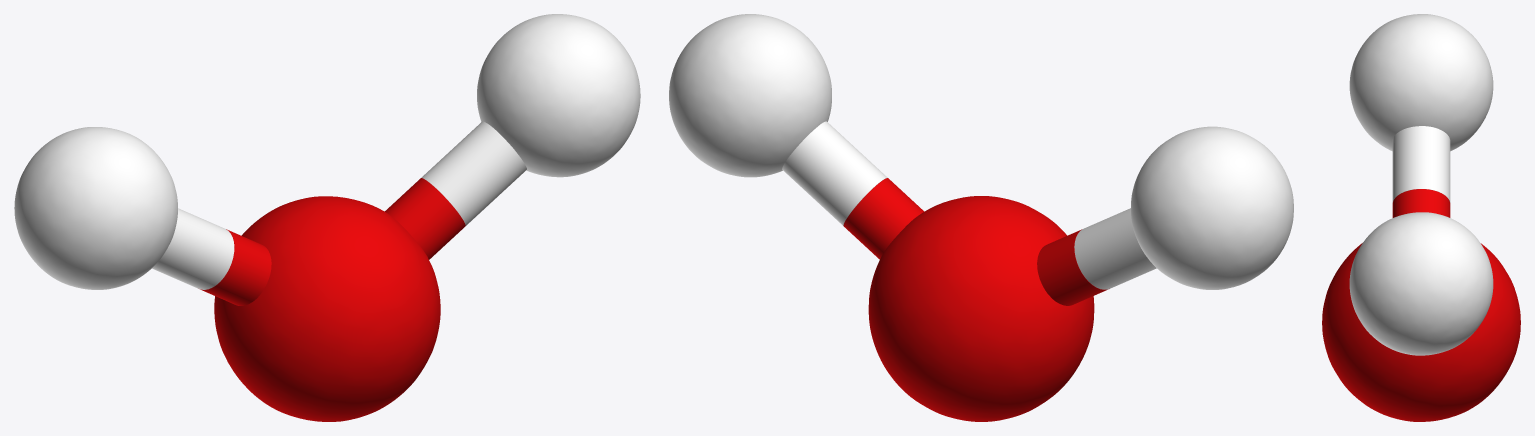
The model's file is asset.gltf.
The picture shows the model from 3 angles, left to right: view 1: azimuth 30°, elevation 25°; view 2: azimuth 150°, elevation 25°; view 3: azimuth 270°, elevation 25°; orthographic projection. The views are drawn at different scales.
Parts seen in each view (by area): view 1: Shape_IndexedFaceSet, Shape_IndexedFaceSet.002, Shape_IndexedFaceSet.001, Shape_IndexedFaceSet.006, Shape_IndexedFaceSet.004, Shape_IndexedFaceSet.005, Shape_IndexedFaceSet.003; view 2: Shape_IndexedFaceSet, Shape_IndexedFaceSet.002, Shape_IndexedFaceSet.001, Shape_IndexedFaceSet.006, Shape_IndexedFaceSet.004, Shape_IndexedFaceSet.005, Shape_IndexedFaceSet.003; view 3: Shape_IndexedFaceSet.001, Shape_IndexedFaceSet, Shape_IndexedFaceSet.002, Shape_IndexedFaceSet.004, Shape_IndexedFaceSet.003.
Part boxes in pixels (x1=…): Shape_IndexedFaceSet: x1=214, y1=196, x2=440, y2=421; Shape_IndexedFaceSet.002: x1=14, y1=127, x2=177, y2=289; Shape_IndexedFaceSet.001: x1=477, y1=14, x2=640, y2=177; Shape_IndexedFaceSet.006: x1=421, y1=121, x2=526, y2=225; Shape_IndexedFaceSet.004: x1=152, y1=208, x2=234, y2=289; Shape_IndexedFaceSet.005: x1=385, y1=178, x2=465, y2=259; Shape_IndexedFaceSet.003: x1=200, y1=229, x2=271, y2=305; Shape_IndexedFaceSet: x1=868, y1=196, x2=1094, y2=421; Shape_IndexedFaceSet.002: x1=1131, y1=126, x2=1293, y2=289; Shape_IndexedFaceSet.001: x1=669, y1=14, x2=831, y2=177; Shape_IndexedFaceSet.006: x1=782, y1=121, x2=887, y2=226; Shape_IndexedFaceSet.004: x1=1074, y1=208, x2=1156, y2=289; Shape_IndexedFaceSet.005: x1=843, y1=178, x2=924, y2=259; Shape_IndexedFaceSet.003: x1=1037, y1=229, x2=1107, y2=305; Shape_IndexedFaceSet.001: x1=1349, y1=212, x2=1493, y2=355; Shape_IndexedFaceSet: x1=1322, y1=243, x2=1520, y2=421; Shape_IndexedFaceSet.002: x1=1349, y1=14, x2=1493, y2=151; Shape_IndexedFaceSet.004: x1=1392, y1=126, x2=1450, y2=202; Shape_IndexedFaceSet.003: x1=1392, y1=189, x2=1450, y2=217.
Bounding box in the file's own units: 21.18 × 11.18 × 6.88.
